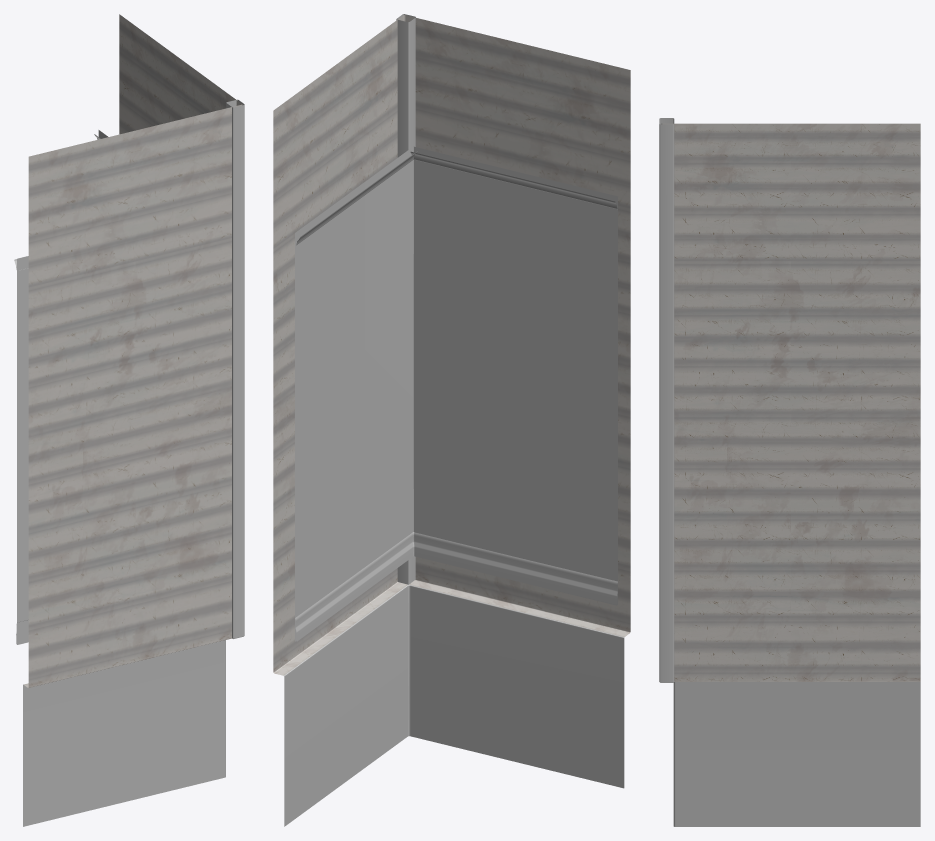
File: Corner_Floor1.fbx
The picture shows the model from 3 angles, left to right: view 1: azimuth 30°, elevation 25°; view 2: azimuth 150°, elevation 25°; view 3: azimuth 270°, elevation 25°; orthographic projection. The views are drawn at different scales.
Parts seen in each view (by area): view 1: Corner_Floor1_A; view 2: Corner_Floor1_A; view 3: Corner_Floor1_A.
Part boxes in pixels (x1=…): Corner_Floor1_A: x1=14, y1=14, x2=244, y2=826; Corner_Floor1_A: x1=273, y1=14, x2=630, y2=826; Corner_Floor1_A: x1=659, y1=118, x2=920, y2=826.
Size of the model in its own units: 148 by 443 by 148.
